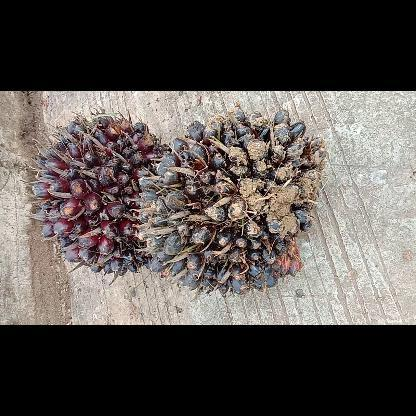TBS mentah: (134, 105, 328, 297), (28, 112, 172, 278)
